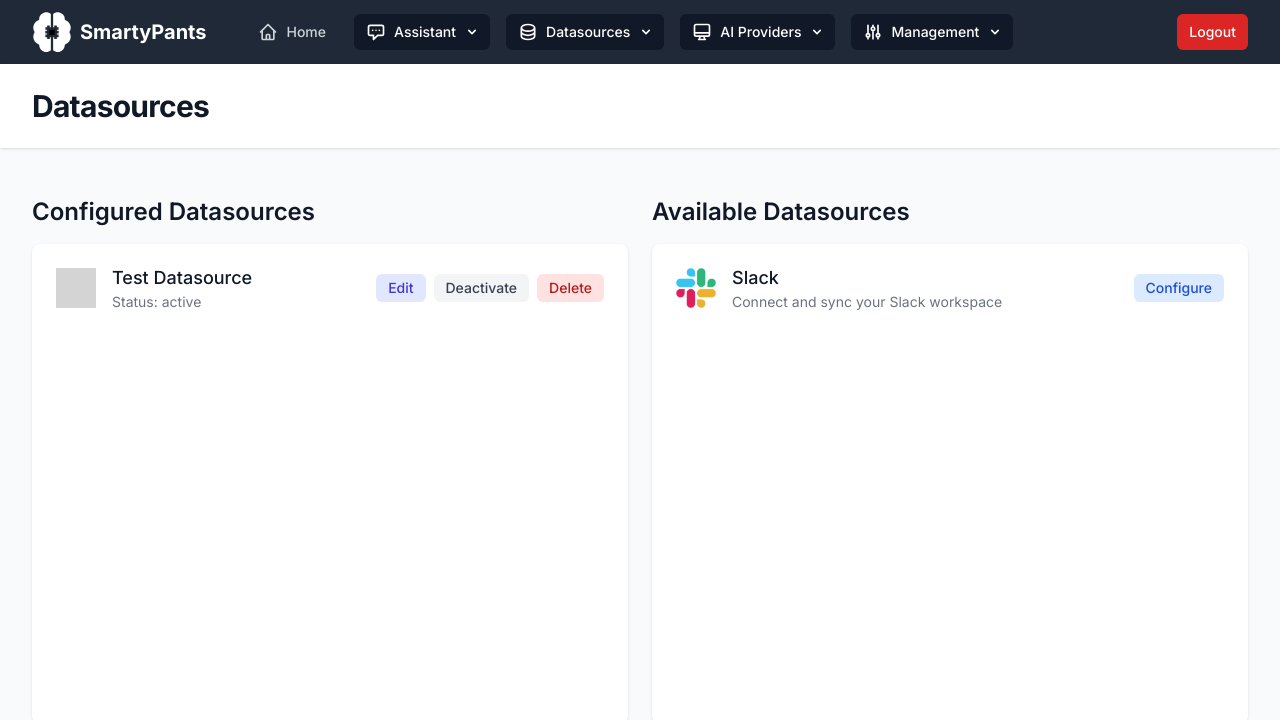
DatasourcesPage › handles deactivate datasource
Check: the heading "Test Datasource" is shown, box [112,264,252,292]
Click the button "Deactivate": (481, 288) [434,274,529,302]
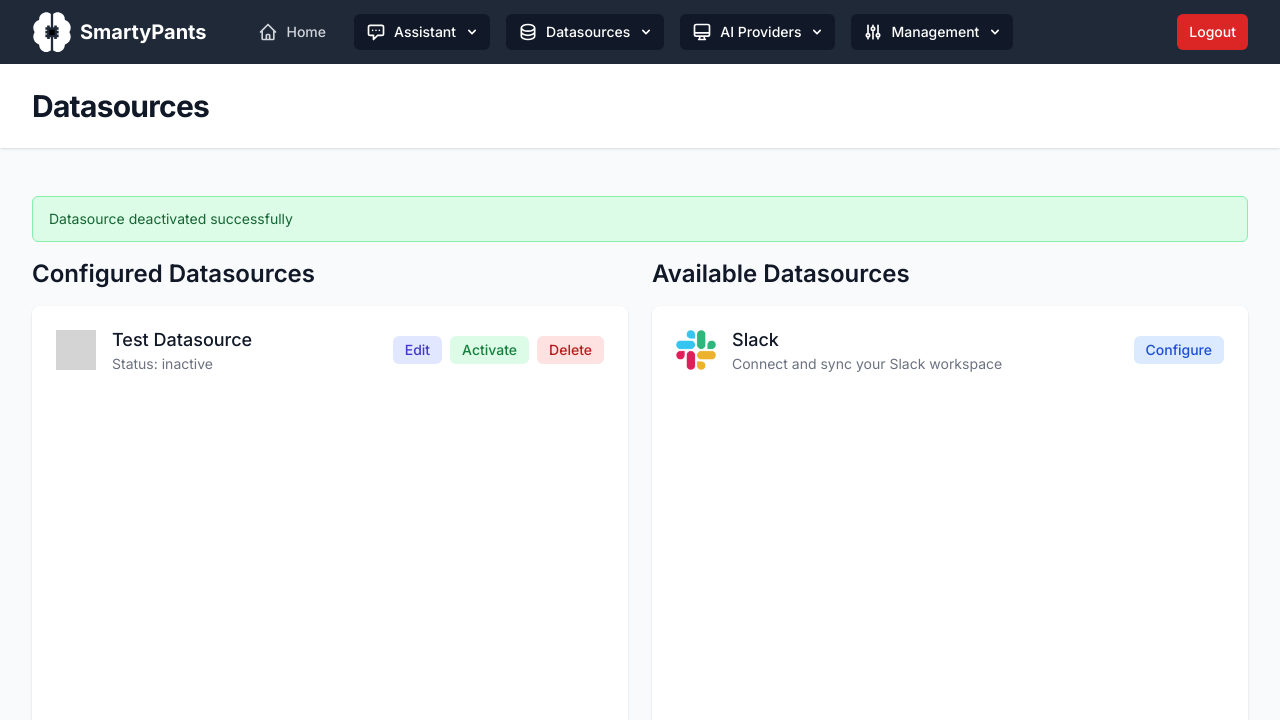
Check: the text "Datasource deactivated successfully" is shown, box [49,210,293,227]
